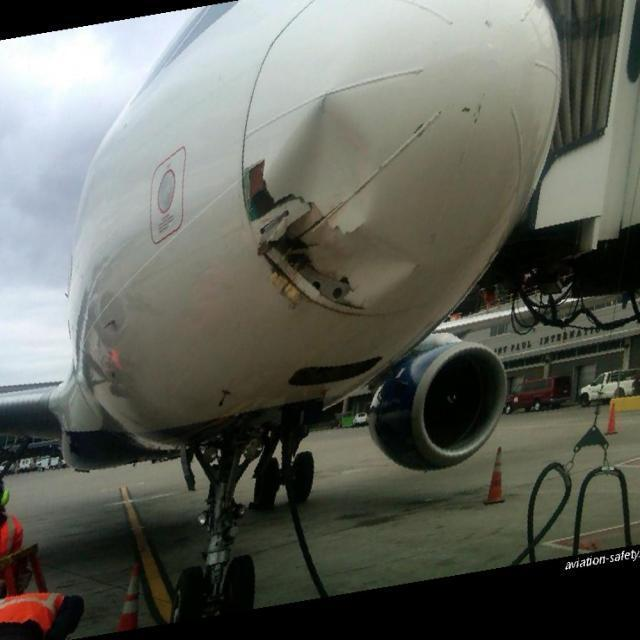dent: (265, 101, 374, 220), (353, 226, 416, 313)
